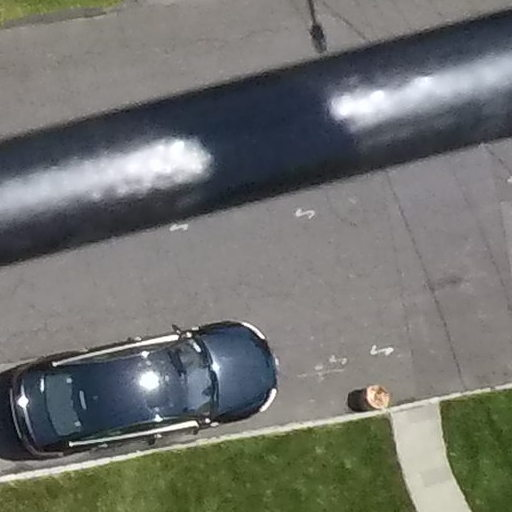trash bin: (360, 379, 395, 414)
